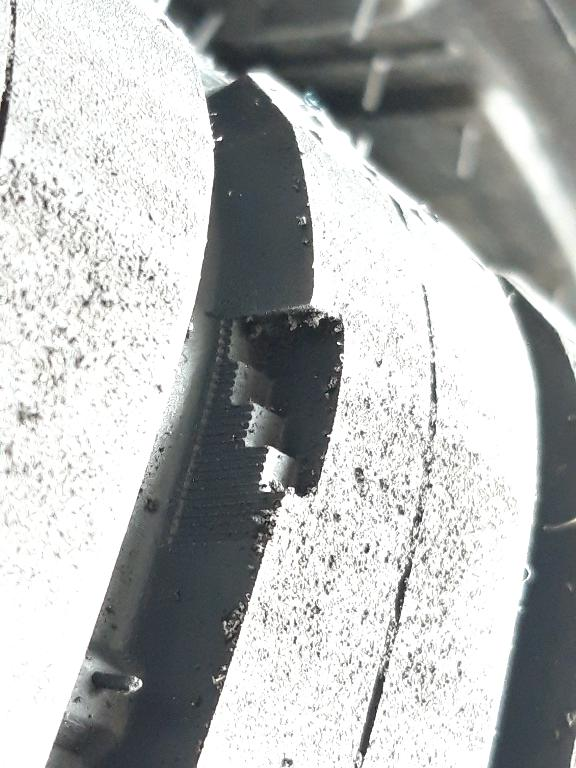temoin:95: (171, 288, 362, 555)
